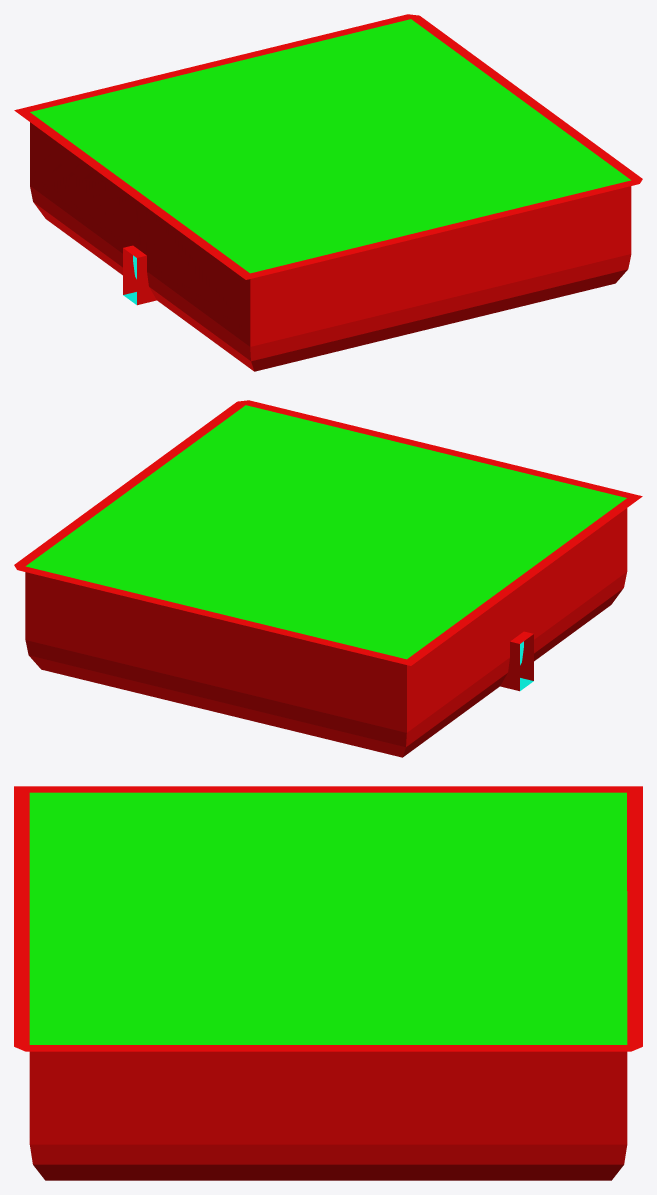
Rendered from DeadEnd.FBX.
3 renders of one model, top to bottom at view 1: azimuth 30°, elevation 25°; view 2: azimuth 150°, elevation 25°; view 3: azimuth 270°, elevation 25°, orthographic. The views are drawn at different scales.
Parts seen in each view (by area): view 1: Object001; view 2: Object001; view 3: Object001.
Part boxes in pixels (box(x1,y1,x2,y2)): Object001: box(14, 14, 642, 371); Object001: box(14, 400, 642, 757); Object001: box(14, 786, 642, 1180).
Size of the model in its own units: 2000 by 2002 by 500.
